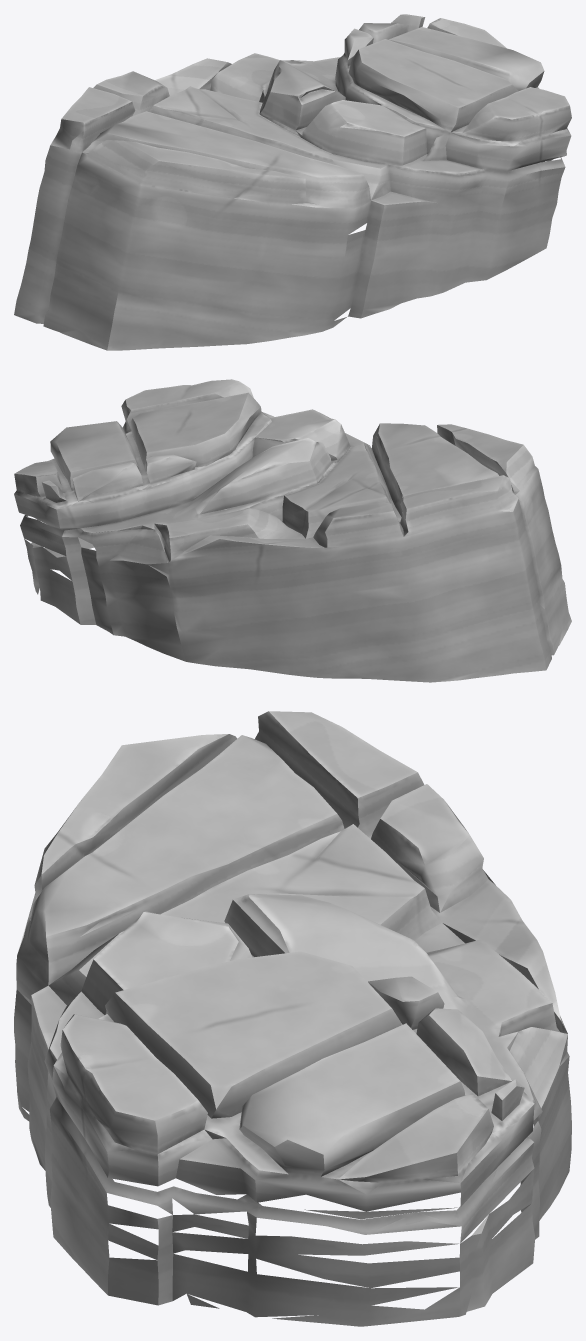
Rendered from sculpted_outcrop_02.glb.
The picture shows the model from 3 angles, top to bottom: view 1: azimuth 30°, elevation 25°; view 2: azimuth 150°, elevation 25°; view 3: azimuth 270°, elevation 25°; orthographic projection. The views are drawn at different scales.
Parts seen in each view (by area): view 1: sculpted_outcrop_02; view 2: sculpted_outcrop_02; view 3: sculpted_outcrop_02.
Boxes of the visible parts, bbox=[...] form: sculpted_outcrop_02: bbox=[14, 14, 571, 350]; sculpted_outcrop_02: bbox=[14, 379, 571, 682]; sculpted_outcrop_02: bbox=[14, 711, 571, 1326].
Size of the model in its own units: 14.69 by 4.96 by 8.86.
1 material, 1 textured.
